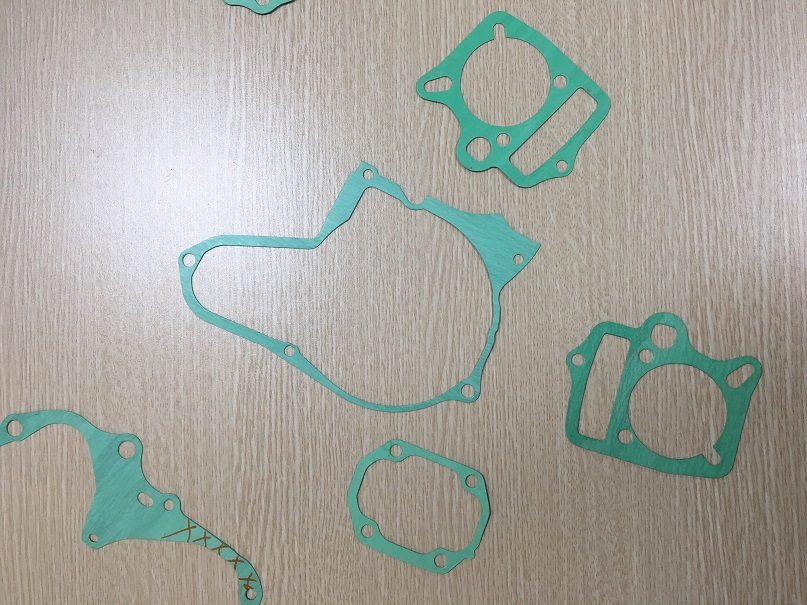type1: (168, 155, 545, 413)
type2: (343, 432, 493, 581)
type4: (543, 301, 775, 485), (412, 8, 618, 194)
